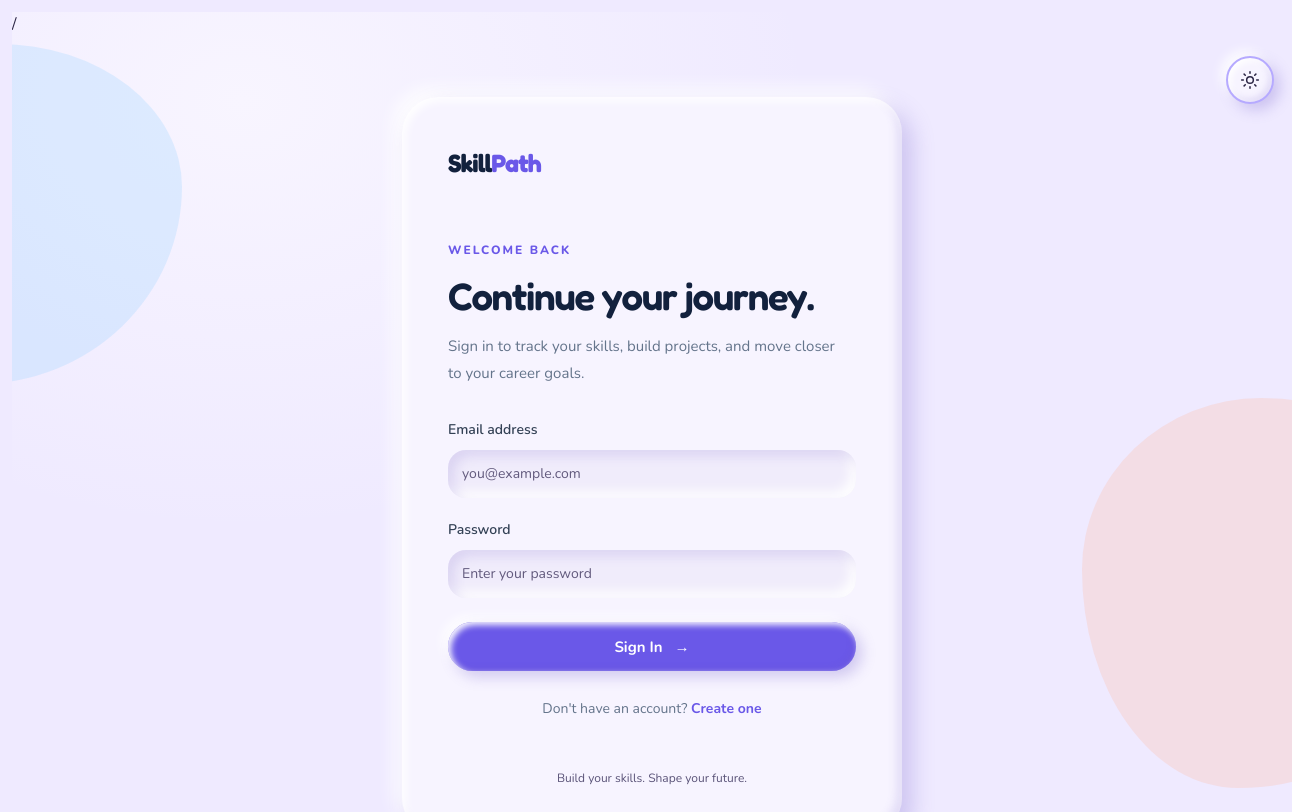
Test: Additional page branches › shows a login API error and supports successful navigation
In the field labelled "Email address": (652,474) [448,450,856,498], type "alex@example.com"
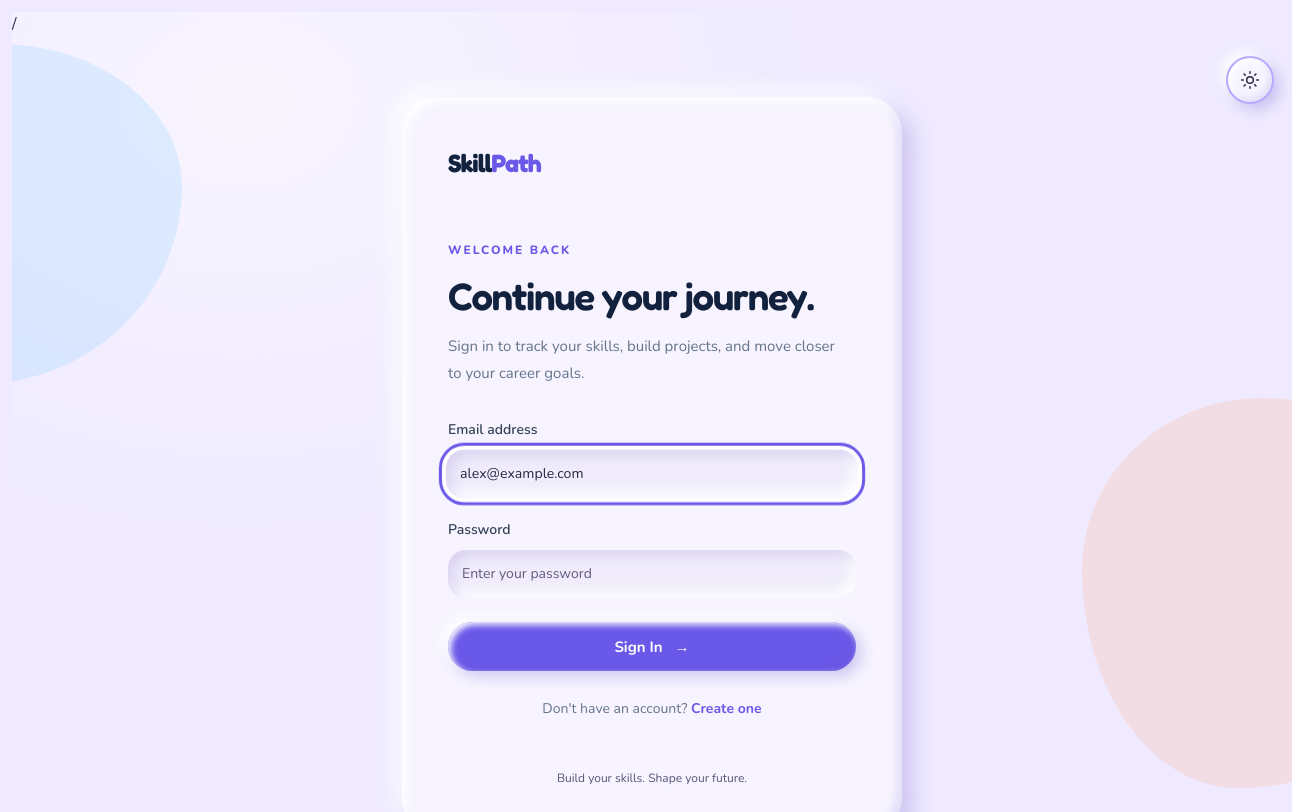
In the password field labelled "Password": (652,574) [448,550,856,598], type "Password1!"
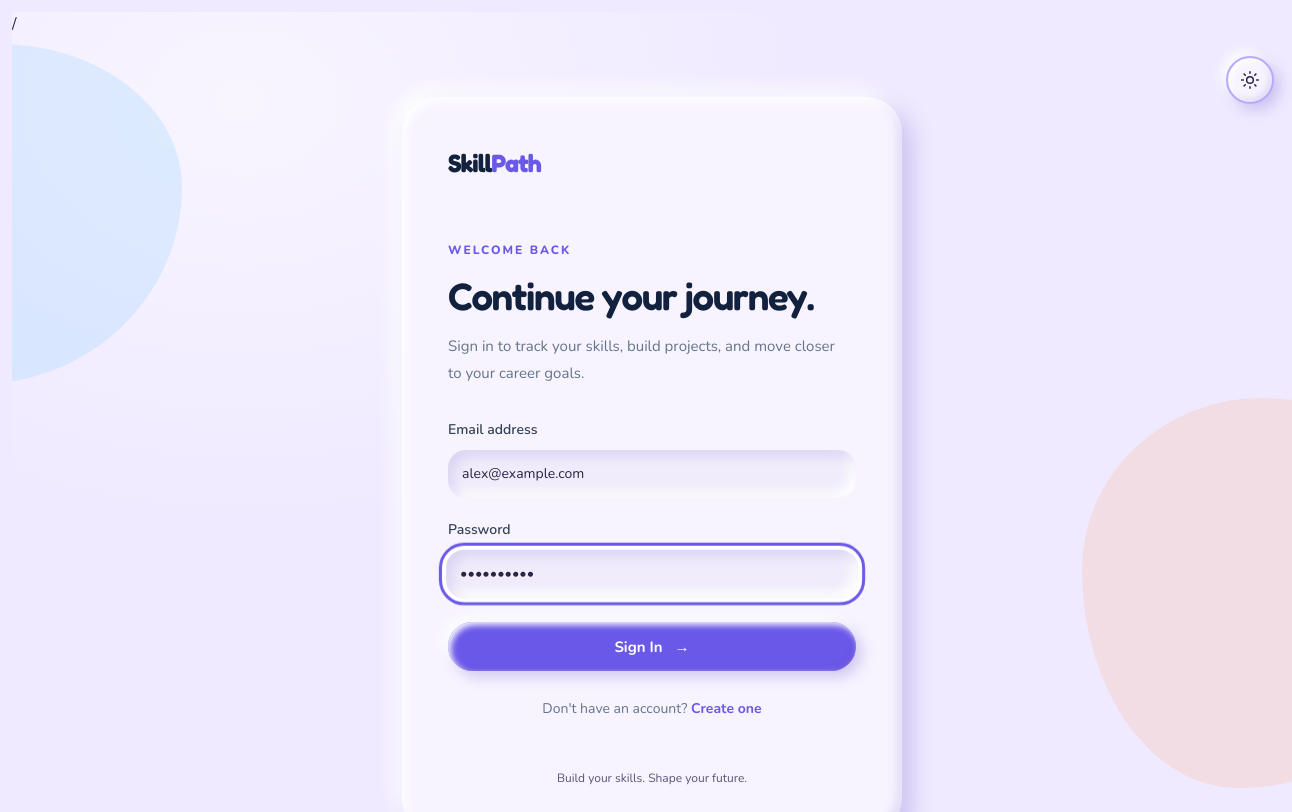
Submit the form, box [448,419,856,672]
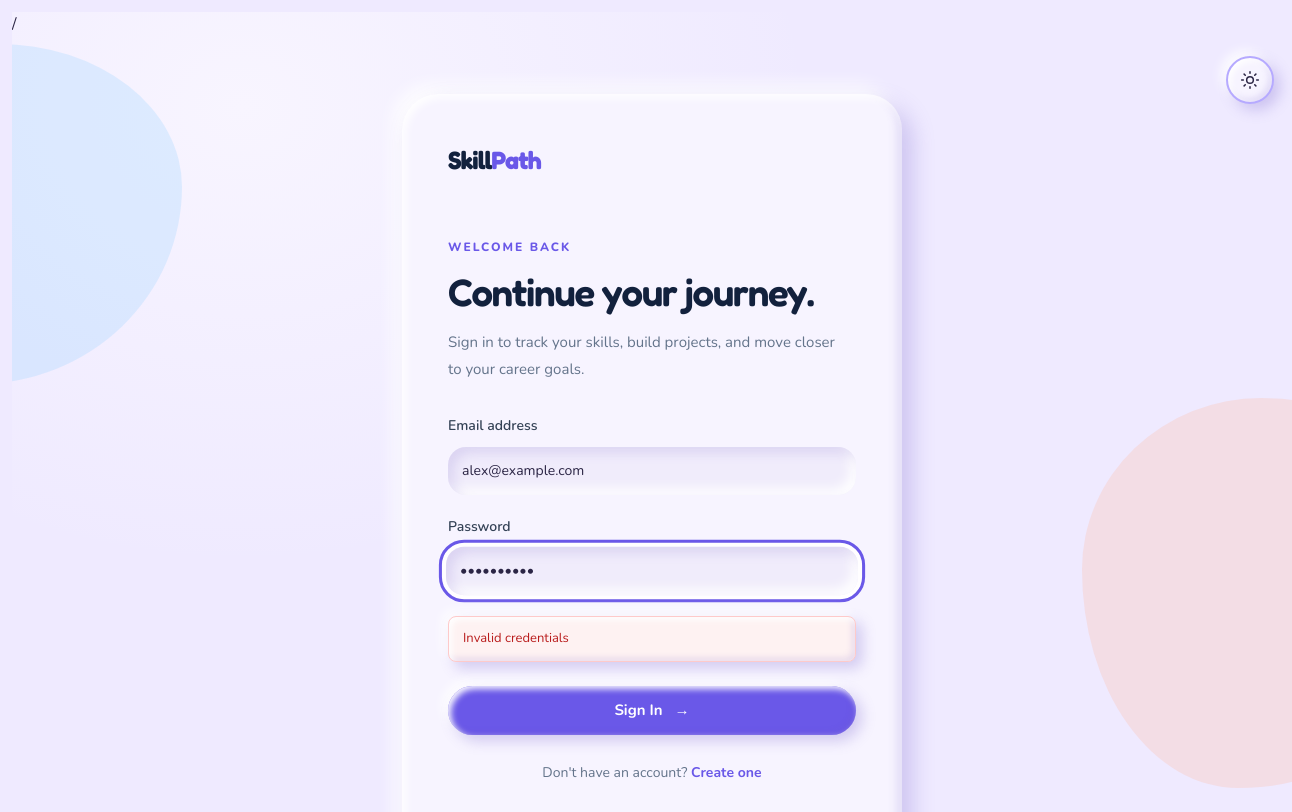
Check: the message reads "Invalid credentials", box [463,629,569,647]
Submit the form, box [448,416,856,735]
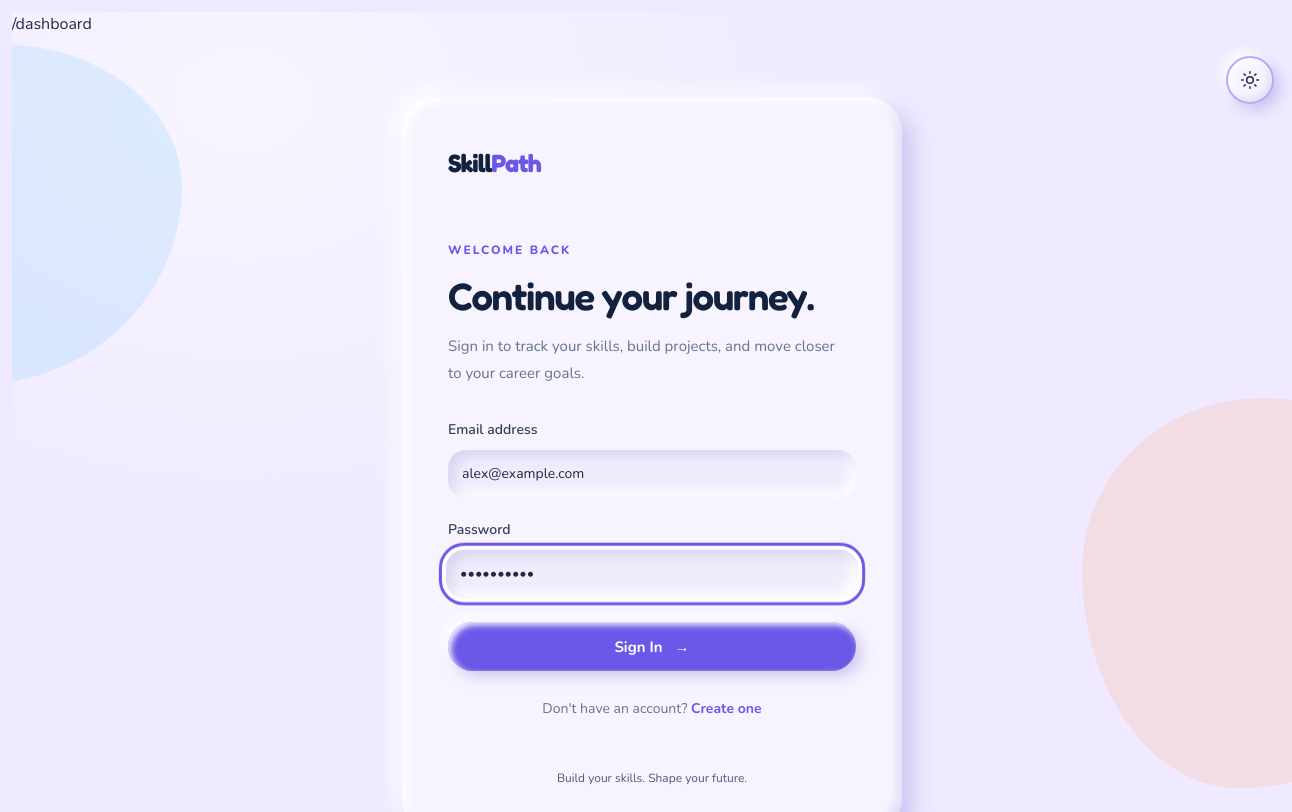
Check: the text with test id "location" reads "/dashboard", box [12,13,92,35]
